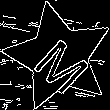M_NE: (24, 23, 93, 91)
